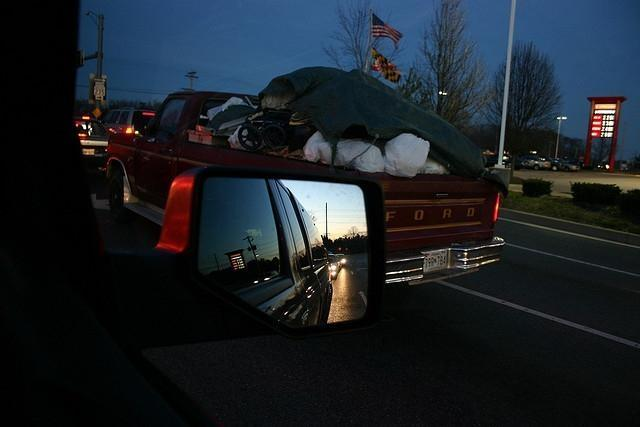car: (192, 180, 332, 324), (75, 116, 112, 192), (103, 109, 159, 133), (521, 156, 551, 170), (536, 156, 563, 171)
truck: (102, 60, 512, 294)
